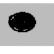correct: (8, 12, 37, 33)
